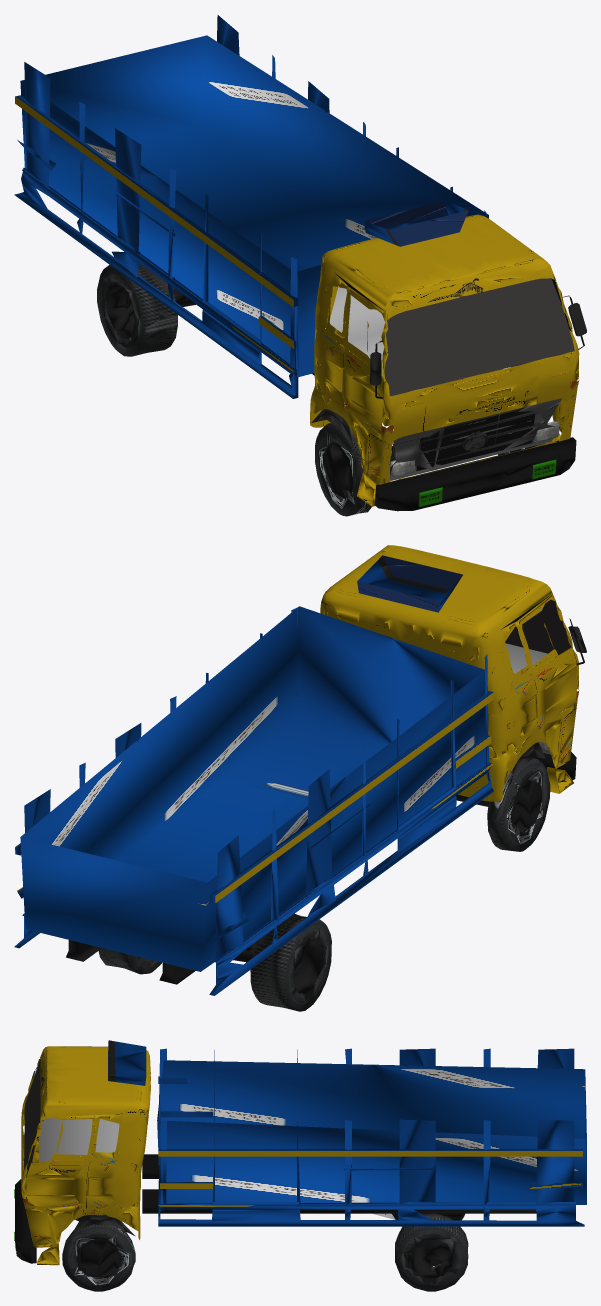
File: truck_tata.glb
The picture shows the model from 3 angles, top to bottom: view 1: azimuth 30°, elevation 25°; view 2: azimuth 150°, elevation 25°; view 3: azimuth 270°, elevation 25°; orthographic projection. The views are drawn at different scales.
Parts seen in each view (by area): view 1: back.main_Material.073_0, main body_Material.055_0, back side_Material.074_0, front glass_Material.056_0, tire_Material.066_0, main bumper_Material.063_0, engine grill_Material.058_0, head box_Material.078_0, front engine_Material.060_0, back rim_Material.067_0, engine pipe_Material.006_0, Plane.005_Material_0 (+2 smaller); view 2: back.main_Material.073_0, main body_Material.055_0, back side_Material.074_0, tire_Material.066_0, back rim_Material.067_0, head box_Material.078_0, front glass_Material.056_0; view 3: back.main_Material.073_0, back side_Material.074_0, main body_Material.055_0, tire_Material.066_0, back rim_Material.067_0, engine pipe_Material.006_0, head box_Material.078_0, main bumper_Material.063_0, front glass_Material.056_0, tire cover_Material.072_0, paya_Material.070_0.
Part boxes in pixels (x1,y1,x2,y2): back.main_Material.073_0: (20, 35, 488, 377); main body_Material.055_0: (310, 214, 579, 484); back side_Material.074_0: (14, 15, 486, 398); front glass_Material.056_0: (384, 278, 574, 396); tire_Material.066_0: (97, 263, 546, 516); main bumper_Material.063_0: (374, 437, 576, 511); engine grill_Material.058_0: (390, 398, 561, 480); head box_Material.078_0: (364, 200, 468, 246); front engine_Material.060_0: (416, 410, 535, 471); back rim_Material.067_0: (106, 281, 521, 498); engine pipe_Material.006_0: (329, 287, 386, 375); Plane.005_Material_0: (370, 303, 586, 385); back.main_Material.073_0: (20, 606, 489, 971); main body_Material.055_0: (320, 545, 578, 802); back side_Material.074_0: (14, 607, 493, 995); tire_Material.066_0: (98, 758, 550, 1011); back rim_Material.067_0: (66, 779, 541, 994); head box_Material.078_0: (357, 555, 462, 612); front glass_Material.056_0: (505, 599, 571, 655); back.main_Material.073_0: (157, 1060, 586, 1204); back side_Material.074_0: (158, 1048, 584, 1226); main body_Material.055_0: (21, 1046, 150, 1247); tire_Material.066_0: (62, 1213, 468, 1291); back rim_Material.067_0: (76, 1154, 536, 1278); engine pipe_Material.006_0: (39, 1118, 395, 1219); head box_Material.078_0: (108, 1040, 146, 1085); main bumper_Material.063_0: (15, 1179, 36, 1263); front glass_Material.056_0: (24, 1059, 40, 1169); tire cover_Material.072_0: (73, 1214, 135, 1236); paya_Material.070_0: (37, 1242, 59, 1265).
Bounding box in the file's own units: 12.1 × 14.21 × 36.34.
21 materials, 9 textured.
